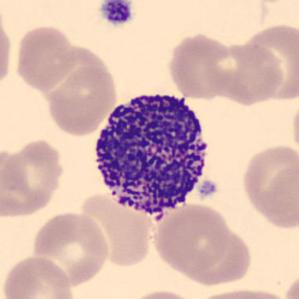Basophil: (84, 82, 222, 228)
Platelets: (97, 0, 136, 28), (197, 179, 220, 199)
RBC: (77, 188, 158, 268), (31, 209, 111, 289), (150, 200, 232, 275), (44, 61, 120, 138), (0, 136, 67, 219), (239, 140, 298, 230), (206, 40, 286, 106), (238, 21, 299, 104), (178, 222, 254, 288), (165, 31, 235, 100), (12, 22, 79, 92), (0, 253, 76, 299), (262, 165, 299, 236), (191, 286, 290, 299), (0, 9, 15, 92), (126, 286, 202, 299), (289, 96, 299, 159), (281, 267, 299, 299)
